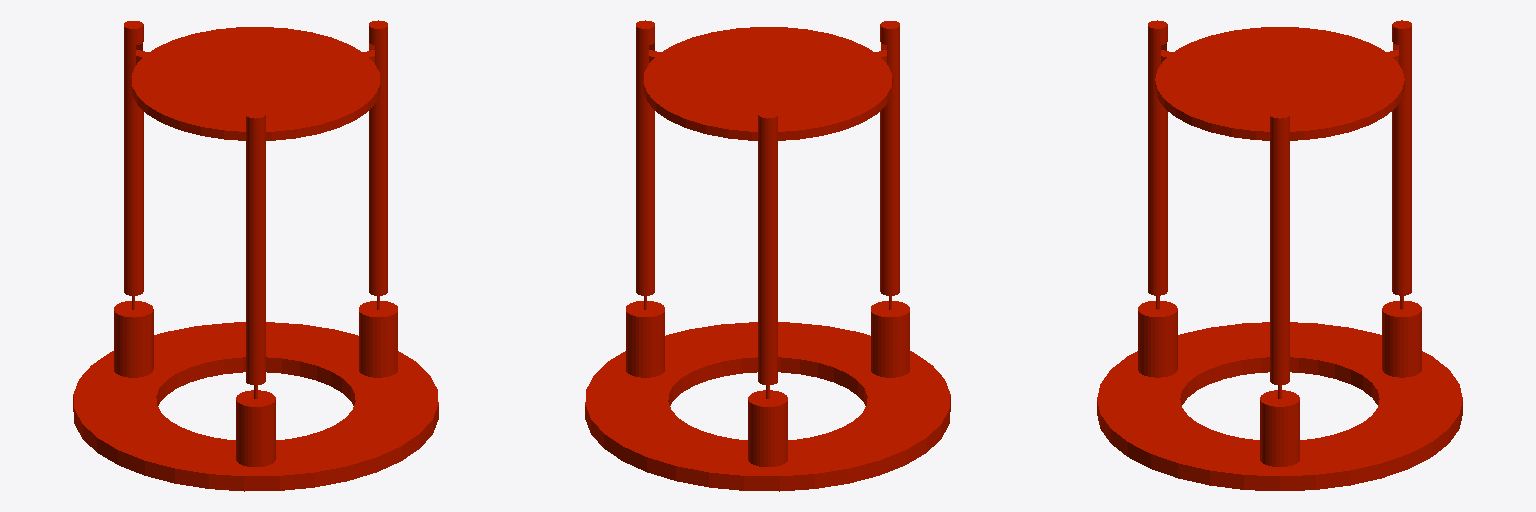
robot.urdf — PIPPA:
<robot name="PIPPA" version="1.0">
  <joint name="Bottom_straight_to_1" type="fixed">
    <origin rpy="1.57080 0.00000 1.57080" xyz="0.00000 0.00000 0.00000"/>
    <parent link="Bottom_straight_link"/>
    <child link="Bottom_Link_1"/>
  </joint>
  <joint name="Bottom_straight_to__3" type="fixed">
    <origin rpy="1.57080 0.00000 -0.52360" xyz="0.00000 0.00000 0.00000"/>
    <parent link="Bottom_straight_link"/>
    <child link="Bottom_Link_3"/>
  </joint>
  <joint name="Bottom_stright_to_2" type="fixed">
    <origin rpy="1.57080 0.00000 -2.61799" xyz="0.00000 0.00000 0.00000"/>
    <parent link="Bottom_straight_link"/>
    <child link="Bottom_Link_2"/>
  </joint>
  <joint name="Bottom_to_Column_1" type="fixed">
    <origin rpy="-1.57080 -1.57080 0.00000" xyz="-0.00000 0.00000 0.42500"/>
    <parent link="Bottom_Link_1"/>
    <child link="Colonna_Link_1"/>
  </joint>
  <joint name="Bottom_to_column3" type="fixed">
    <origin rpy="-1.57080 0.52360 -0.00000" xyz="-0.00028 0.00000 0.42451"/>
    <parent link="Bottom_Link_3"/>
    <child link="Colonna_Link_3"/>
  </joint>
  <joint name="Bottom_to_column_2" type="fixed">
    <origin rpy="1.57080 0.52360 3.14159" xyz="0.00028 0.00000 0.42451"/>
    <parent link="Bottom_Link_2"/>
    <child link="Colonna_Link_2"/>
  </joint>
  <joint name="Cover_to_leg_1" type="fixed">
    <origin rpy="0.00000 0.00000 0.00000" xyz="0.00000 0.00000 0.66000"/>
    <parent link="Gamba_Link_1"/>
    <child link="Cover_Link1"/>
  </joint>
  <joint name="Cover_to_leg_2" type="fixed">
    <origin rpy="-0.00000 0.00000 0.00000" xyz="0.00000 0.00000 0.66000"/>
    <parent link="Gamba_Link_2"/>
    <child link="Cover_Link_2"/>
  </joint>
  <joint name="Cover_to_leg_3" type="fixed">
    <origin rpy="0.00000 0.00000 0.00000" xyz="-0.00000 0.00000 0.66000"/>
    <parent link="Gamba_Link_3"/>
    <child link="Cover_Link_3"/>
  </joint>
  <joint name="Cover_to_top_1" type="fixed">
    <origin rpy="-0.00000 1.57080 0.00000" xyz="-0.42500 0.00000 0.10300"/>
    <parent link="Cover_Link1"/>
    <child link="Top_Link_1"/>
  </joint>
  <joint name="Cover_to_top_2" type="fixed">
    <origin rpy="-2.09440 1.57080 0.00000" xyz="0.21250 -0.36750 0.10300"/>
    <parent link="Cover_Link_2"/>
    <child link="Top_Link_2"/>
  </joint>
  <joint name="Cover_to_top_3" type="fixed">
    <origin rpy="2.09439 1.57080 0.00000" xyz="0.21250 0.36750 0.10300"/>
    <parent link="Cover_Link_3"/>
    <child link="Top_Link_3"/>
  </joint>
  <joint name="Leg_to_elastic_1" type="fixed">
    <origin rpy="0.00000 0.00000 0.00000" xyz="-0.00000 0.00000 0.08000"/>
    <parent link="Elastic_Joint_Link_1"/>
    <child link="Gamba_Link_1"/>
  </joint>
  <joint name="Leg_to_elastic_2" type="fixed">
    <origin rpy="-0.00000 0.00000 0.00000" xyz="-0.00000 0.00000 0.08000"/>
    <parent link="Elastic_Joint_link_2"/>
    <child link="Gamba_Link_2"/>
  </joint>
  <joint name="Leg_to_elastic_3" type="fixed">
    <origin rpy="0.00000 0.00000 0.00000" xyz="0.00000 0.00000 0.08000"/>
    <parent link="Elastic_Joint_link_3"/>
    <child link="Gamba_Link_3"/>
  </joint>
  <joint name="elastic_to_column_1" type="fixed">
    <origin rpy="0.00000 0.00000 0.00000" xyz="0.00000 0.00000 0.20000"/>
    <parent link="Colonna_Link_1"/>
    <child link="Elastic_Joint_Link_1"/>
  </joint>
  <joint name="elastic_to_column_2" type="fixed">
    <origin rpy="0.00000 0.00000 -0.00000" xyz="0.00000 0.00000 0.20000"/>
    <parent link="Colonna_Link_2"/>
    <child link="Elastic_Joint_link_2"/>
  </joint>
  <joint name="elastic_to_column_3" type="fixed">
    <origin rpy="0.00000 0.00000 -0.00000" xyz="0.00000 0.00000 0.20000"/>
    <parent link="Colonna_Link_3"/>
    <child link="Elastic_Joint_link_3"/>
  </joint>
  <link name="Bottom_Link_1">
    <inertial>
      <inertia ixx="0.00100" ixy="0.00000" ixz="-0.00000" iyy="0.00100" iyz="0.00000" izz="0.00100"/>
      <origin rpy="0.00000 0.00000 0.00000" xyz="0.00000 0.00000 0.00000"/>
      <mass value="8.60000"/>
    </inertial>
  </link>
  <link name="Bottom_Link_2">
    <inertial>
      <inertia ixx="0.00100" ixy="-0.00000" ixz="0.00000" iyy="0.00100" iyz="-0.00000" izz="0.00100"/>
      <origin rpy="0.00000 0.00000 0.00000" xyz="0.00000 0.00000 0.00000"/>
      <mass value="8.60000"/>
    </inertial>
  </link>
  <link name="Bottom_Link_3">
    <inertial>
      <inertia ixx="0.00100" ixy="0.00000" ixz="0.00000" iyy="0.00100" iyz="0.00000" izz="0.00100"/>
      <origin rpy="0.00000 0.00000 0.00000" xyz="0.00000 0.00000 0.00000"/>
      <mass value="8.60000"/>
    </inertial>
  </link>
  <link name="Bottom_straight_link">
    <collision name="PIP_collision">
      <origin rpy="0.00000 0.00000 0.00000" xyz="0.00000 0.00000 0.00000"/>
      <geometry>
        <mesh filename="../meshes/stl/Cylinder.stl" scale="1.00000 1.00000 0.83333"/>
      </geometry>
    </collision>
    <inertial>
      <inertia ixx="0.00100" ixy="0.00000" ixz="0.00000" iyy="0.00100" iyz="0.00000" izz="0.00100"/>
      <origin rpy="0.00000 0.00000 0.00000" xyz="0.00000 0.00000 0.00000"/>
      <mass value="74.50000"/>
    </inertial>
    <visual name="PIP">
      <origin rpy="0.00000 0.00000 0.00000" xyz="0.00000 0.00000 0.00000"/>
      <material name="Material.010"/>
      <geometry>
        <mesh filename="../meshes/stl/Cylinder.stl" scale="1.00000 1.00000 0.83333"/>
      </geometry>
    </visual>
  </link>
  <link name="Colonna_Link_1">
    <inertial>
      <inertia ixx="0.00100" ixy="0.00000" ixz="0.00000" iyy="0.00100" iyz="0.00000" izz="0.00100"/>
      <origin rpy="0.00000 0.00000 0.00000" xyz="0.00000 0.00000 0.00000"/>
      <mass value="0.05690"/>
    </inertial>
  </link>
  <link name="Colonna_Link_2">
    <inertial>
      <inertia ixx="0.00100" ixy="0.00000" ixz="-0.00000" iyy="0.00100" iyz="-0.00000" izz="0.00100"/>
      <origin rpy="0.00000 0.00000 0.00000" xyz="0.00000 0.00000 0.00000"/>
      <mass value="0.05690"/>
    </inertial>
  </link>
  <link name="Colonna_Link_3">
    <inertial>
      <inertia ixx="0.00100" ixy="-0.00000" ixz="0.00000" iyy="0.00100" iyz="0.00000" izz="0.00100"/>
      <origin rpy="0.00000 0.00000 0.00000" xyz="0.00000 0.00000 0.00000"/>
      <mass value="0.05690"/>
    </inertial>
  </link>
  <link name="Cover_Link1">
    <inertial>
      <inertia ixx="0.00100" ixy="0.00000" ixz="0.00000" iyy="0.00100" iyz="0.00000" izz="0.00100"/>
      <origin rpy="0.00000 0.00000 0.00000" xyz="0.00000 0.00000 0.00000"/>
      <mass value="15.42300"/>
    </inertial>
  </link>
  <link name="Cover_Link_2">
    <inertial>
      <inertia ixx="0.00100" ixy="0.00000" ixz="0.00000" iyy="0.00100" iyz="0.00000" izz="0.00100"/>
      <origin rpy="0.00000 0.00000 0.00000" xyz="0.00000 0.00000 0.00000"/>
      <mass value="15.42300"/>
    </inertial>
  </link>
  <link name="Cover_Link_3">
    <inertial>
      <inertia ixx="0.00100" ixy="0.00000" ixz="0.00000" iyy="0.00100" iyz="0.00000" izz="0.00100"/>
      <origin rpy="0.00000 0.00000 0.00000" xyz="0.00000 0.00000 0.00000"/>
      <mass value="15.42300"/>
    </inertial>
  </link>
  <link name="Elastic_Joint_Link_1">
    <inertial>
      <inertia ixx="0.00100" ixy="0.00000" ixz="0.00000" iyy="0.00100" iyz="0.00000" izz="0.00100"/>
      <origin rpy="0.00000 0.00000 0.00000" xyz="-0.00000 0.00000 0.00000"/>
      <mass value="1.61450"/>
    </inertial>
  </link>
  <link name="Elastic_Joint_link_2">
    <inertial>
      <inertia ixx="0.00100" ixy="0.00000" ixz="0.00000" iyy="0.00100" iyz="0.00000" izz="0.00100"/>
      <origin rpy="0.00000 0.00000 0.00000" xyz="0.00000 0.00000 0.00000"/>
      <mass value="1.61450"/>
    </inertial>
  </link>
  <link name="Elastic_Joint_link_3">
    <inertial>
      <inertia ixx="0.00100" ixy="0.00000" ixz="0.00000" iyy="0.00100" iyz="0.00000" izz="0.00100"/>
      <origin rpy="0.00000 0.00000 0.00000" xyz="0.00000 0.00000 0.00000"/>
      <mass value="1.61450"/>
    </inertial>
  </link>
  <link name="Gamba_Link_1">
    <inertial>
      <inertia ixx="0.00100" ixy="0.00000" ixz="0.00000" iyy="0.00100" iyz="0.00000" izz="0.00100"/>
      <origin rpy="0.00000 0.00000 0.00000" xyz="-0.00000 0.00000 0.00000"/>
      <mass value="0.78000"/>
    </inertial>
  </link>
  <link name="Gamba_Link_2">
    <inertial>
      <inertia ixx="0.00100" ixy="0.00000" ixz="0.00000" iyy="0.00100" iyz="0.00000" izz="0.00100"/>
      <origin rpy="0.00000 0.00000 0.00000" xyz="0.00000 0.00000 0.00000"/>
      <mass value="0.78000"/>
    </inertial>
  </link>
  <link name="Gamba_Link_3">
    <inertial>
      <inertia ixx="0.00100" ixy="0.00000" ixz="0.00000" iyy="0.00100" iyz="0.00000" izz="0.00100"/>
      <origin rpy="0.00000 0.00000 0.00000" xyz="0.00000 0.00000 0.00000"/>
      <mass value="0.78000"/>
    </inertial>
  </link>
  <link name="Top_Link_1"/>
  <link name="Top_Link_2"/>
  <link name="Top_Link_3"/>
  <material name="Material.010">
    <color rgba="0.80000 0.14118 0.00000 1.00000"/>
  </material>
</robot>

--- What the picture shows (computed from the rendered views, not written in the file) ---
Views: 3 orthographic renders of the robot side by side, from view 1: azimuth 30°, elevation 25°; view 2: azimuth 150°, elevation 25°; view 3: azimuth 270°, elevation 25°.
Model PIPPA with 19 links and 18 joints (18 fixed), rooted at Bottom_straight_link, posed all joints at 0.
Visible links, largest first — view 1: Bottom_straight_link; view 2: Bottom_straight_link; view 3: Bottom_straight_link.
Link boxes in pixels (x1,y1,x2,y2): Bottom_straight_link: (73, 20, 438, 491); Bottom_straight_link: (585, 20, 950, 491); Bottom_straight_link: (1097, 20, 1462, 490).
Bounding box of the posed robot: 1.1 × 1.1 × 1.19 m (x, y, z).
1 mesh visuals loaded from 1 distinct referenced files (1 binary STL).
